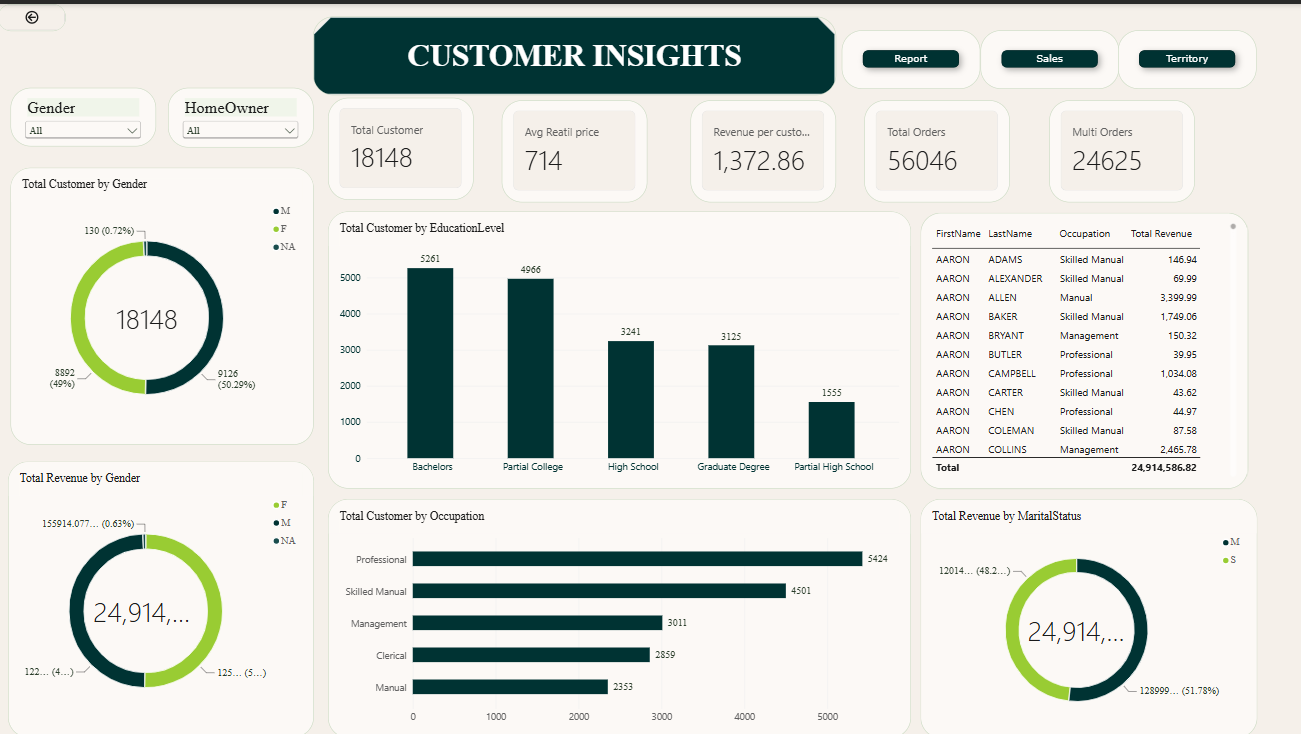

What the dashboard file says about the page in this screenshot:
{"tool":"powerbi","page":{"name":"Customer","canvas":[1920,1080],"ordinal":2},"visuals":[{"type":"actionButton","box":[0,0,100,40],"z":0},{"type":"shape","box":[464,18,770,116],"z":1000},{"type":"shape","box":[1242,38,204,86],"z":2000},{"type":"shape","box":[1446,38,204,86],"z":3000},{"type":"shape","box":[1650,38,204,86],"z":4000},{"type":"slicer","fields":{"Values":["Customer Lookup.Gender"]},"box":[18,124,214,86],"z":5000},{"type":"slicer","fields":{"Values":["Customer Lookup.HomeOwner"]},"box":[250,124,214,88],"z":6000},{"type":"cardVisual","fields":{"Data":["Measure Table.Total Customer"]},"box":[486,138,214,150],"z":7000},{"type":"cardVisual","fields":{"Data":["Measure Table.Avg Reatil price"]},"box":[742,142,214,150],"z":8000},{"type":"cardVisual","fields":{"Data":["Measure Table.Revenue per customer"]},"box":[1020,142,214,150],"z":9000},{"type":"cardVisual","fields":{"Data":["Measure Table.Total Orders"]},"box":[1276,142,214,150],"z":10000},{"type":"cardVisual","fields":{"Data":["Measure Table.Multi Orders"]},"box":[1548,142,214,150],"z":11000},{"type":"donutChart","fields":{"Category":["Customer Lookup.Gender"],"Y":["Measure Table.Total Customer"]},"box":[18,242,446,408],"z":12000},{"type":"clusteredColumnChart","fields":{"Category":["Customer Lookup.EducationLevel"],"Y":["Measure Table.Total Customer"]},"box":[486,306,858,408],"z":13000},{"type":"clusteredBarChart","fields":{"Category":["Customer Lookup.Occupation"],"Y":["Measure Table.Total Customer"]},"box":[486,728,858,352],"z":14000},{"type":"donutChart","fields":{"Category":["Customer Lookup.Gender"],"Y":["Measure Table.Total Revenue"]},"box":[14,674,450,406],"z":15000},{"type":"donutChart","fields":{"Category":["Customer Lookup.MaritalStatus"],"Y":["Measure Table.Total Revenue"]},"box":[1358,728,496,352],"z":16000},{"type":"tableEx","fields":{"Values":["Customer Lookup.FirstName","Customer Lookup.LastName","Customer Lookup.Occupation","Measure Table.Total Revenue"]},"box":[1358,308,482,406],"z":17000}]}

Visuals, with their boxes in screenshot pixels (x1, y1, x2, y2), scaled from the page's 1920x1080 canvas onto the 1301x734 screenshot:
actionButton: (0,0,68,27)
shape: (314,12,836,91)
shape: (842,26,980,84)
shape: (980,26,1118,84)
shape: (1118,26,1256,84)
slicer - Customer Lookup.Gender: (12,84,157,143)
slicer - Customer Lookup.HomeOwner: (169,84,314,144)
cardVisual - Measure Table.Total Customer: (329,94,474,196)
cardVisual - Measure Table.Avg Reatil price: (503,97,648,198)
cardVisual - Measure Table.Revenue per customer: (691,97,836,198)
cardVisual - Measure Table.Total Orders: (865,97,1010,198)
cardVisual - Measure Table.Multi Orders: (1049,97,1194,198)
donutChart - Customer Lookup.Gender x Measure Table.Total Customer: (12,164,314,442)
clusteredColumnChart - Customer Lookup.EducationLevel x Measure Table.Total Customer: (329,208,911,485)
clusteredBarChart - Customer Lookup.Occupation x Measure Table.Total Customer: (329,495,911,733)
donutChart - Customer Lookup.Gender x Measure Table.Total Revenue: (9,458,314,733)
donutChart - Customer Lookup.MaritalStatus x Measure Table.Total Revenue: (920,495,1256,733)
tableEx - Customer Lookup.FirstName x Customer Lookup.LastName: (920,209,1247,485)
